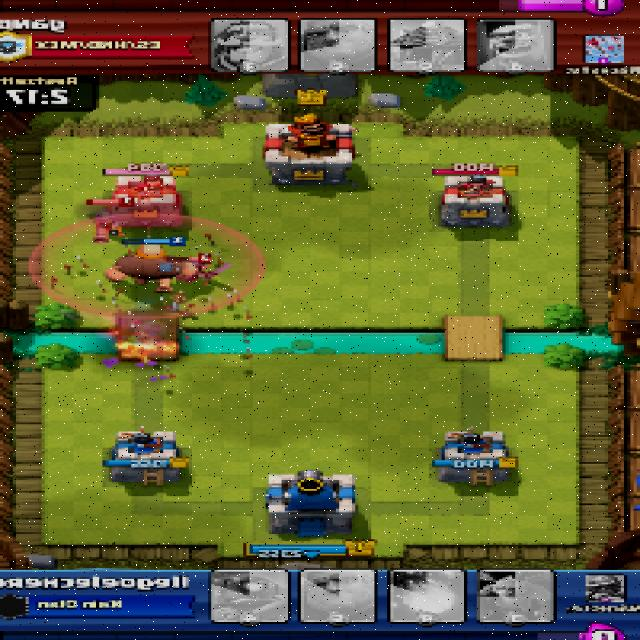Enemy-MiniPEKKA: (174, 262, 232, 282)
Enemy-Musketeer: (90, 212, 125, 240)
Player-Arrow: (29, 214, 262, 319)
Player-Giant: (104, 245, 190, 292)
